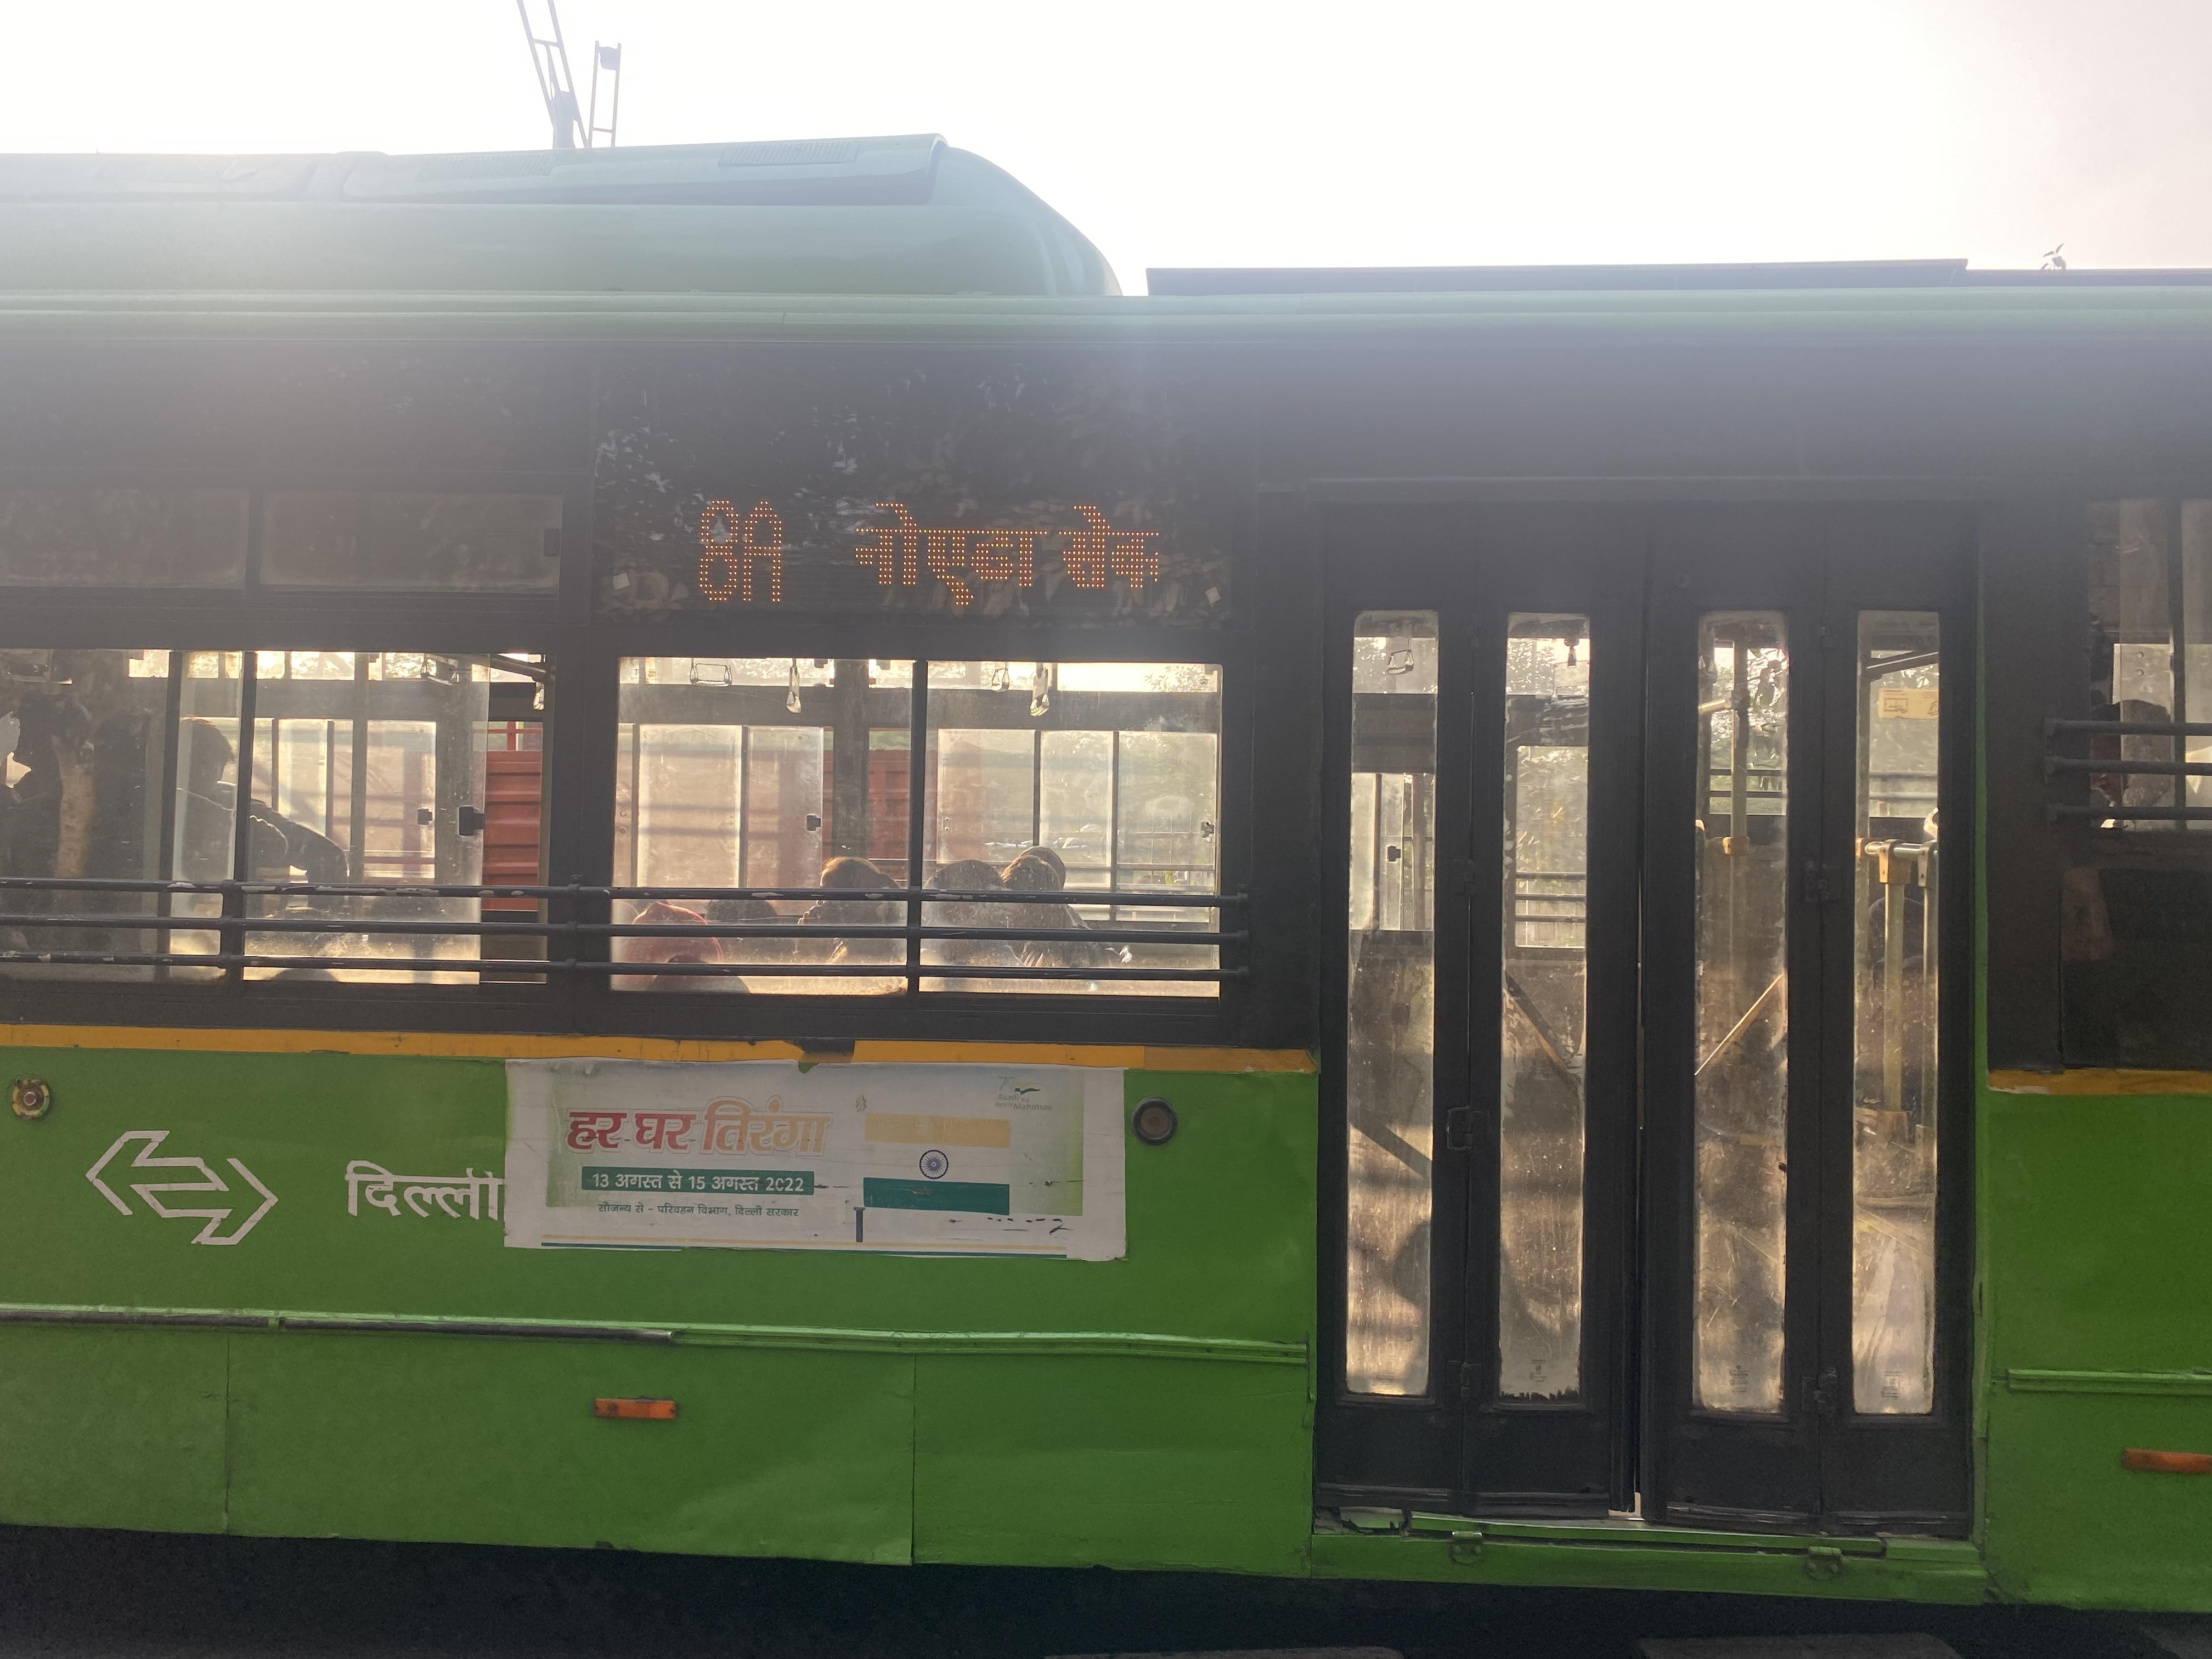Bus: (0, 138, 2212, 1614)
Display Board: (631, 416, 1235, 687)
